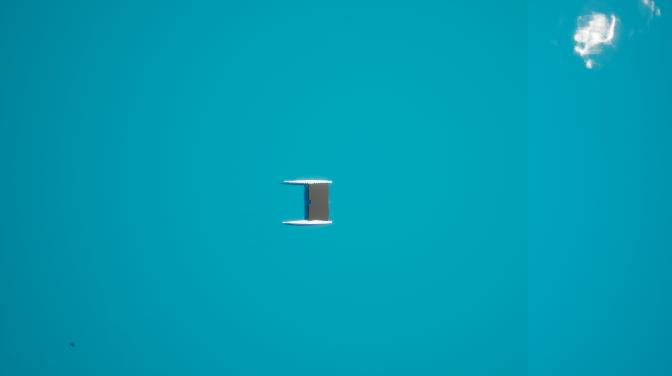boat: (279, 175, 335, 231)
drone: (68, 339, 74, 349)
land_base: (309, 185, 329, 220)
light_reflex: (559, 1, 668, 78)
